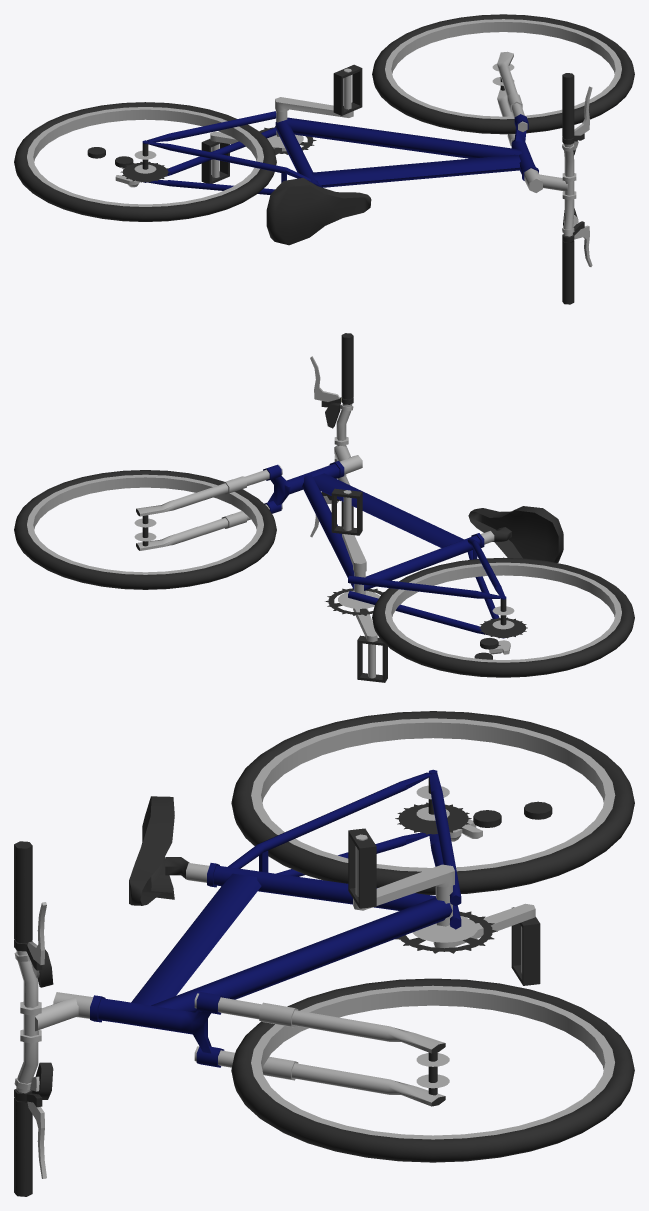
File: bicycle.dae
3 views of the same model, one above another, from view 1: azimuth 30°, elevation 25°; view 2: azimuth 150°, elevation 25°; view 3: azimuth 270°, elevation 25° (orthographic). The views are drawn at different scales.
Visible parts, largest first — view 1: Component_3 (×6), Component_1 (×9), Component_5, Component_2, Component_6, Component_7, Component_4, Component_8; view 2: Component_3 (×6), Component_1 (×8), Component_4 (×2), Component_2, Component_7, Component_6, Component_8; view 3: Component_3 (×6), Component_1 (×12), Component_4 (×4), Component_6 (×3), Component_2 (×2), Component_5 (×2), Component_7, Component_8.
Part boxes in pixels (bbox=[...]): Component_3 (×6): bbox=[14, 14, 634, 221]; Component_1 (×9): bbox=[120, 111, 521, 245]; Component_5: bbox=[562, 240, 574, 304]; Component_2: bbox=[562, 75, 574, 139]; Component_6: bbox=[275, 97, 353, 117]; Component_7: bbox=[333, 64, 362, 115]; Component_4: bbox=[497, 51, 517, 97]; Component_8: bbox=[201, 142, 229, 183]; Component_3 (×6): bbox=[14, 470, 634, 677]; Component_1 (×8): bbox=[268, 473, 563, 638]; Component_4 (×2): bbox=[136, 483, 228, 550]; Component_2: bbox=[341, 335, 353, 399]; Component_7: bbox=[331, 488, 362, 535]; Component_6: bbox=[342, 534, 366, 572]; Component_8: bbox=[357, 635, 387, 682]; Component_3 (×6): bbox=[231, 711, 634, 1162]; Component_1 (×12): bbox=[35, 772, 477, 1053]; Component_4 (×4): bbox=[218, 997, 444, 1106]; Component_6 (×3): bbox=[353, 864, 535, 953]; Component_2 (×2): bbox=[14, 845, 38, 1007]; Component_5 (×2): bbox=[14, 1042, 38, 1196]; Component_7: bbox=[348, 828, 376, 908]; Component_8: bbox=[511, 917, 540, 985].
Bounding box in the file's own units: 66.36 × 39.69 × 24.55.
